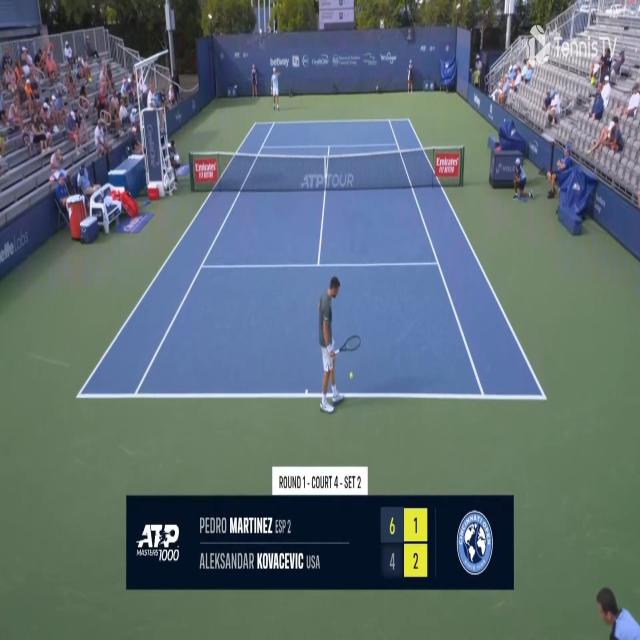tennis-player: (316, 271, 362, 418), (270, 66, 281, 111)
